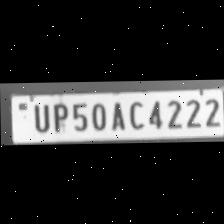0: (88, 99, 108, 130)
2: (161, 96, 181, 130), (200, 94, 220, 127), (181, 96, 201, 128)
4: (144, 98, 162, 130)
5: (68, 100, 88, 131)
A: (108, 99, 125, 130)
C: (124, 98, 144, 130)
P: (48, 102, 68, 132)
U: (28, 102, 50, 133)
